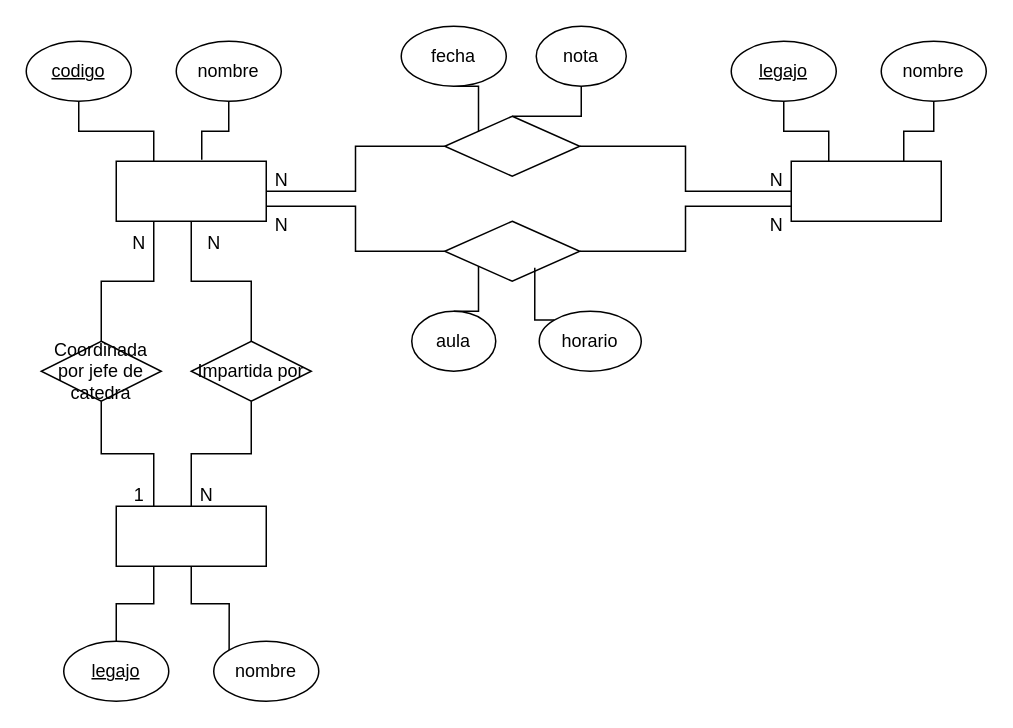
Some shapes in this 1013 by 728 pixel diagram are drawn without their labels. Here are the shapes that lost their labels. From the top down, the centre of each, then its label:
At point (511, 145): "Rendida por".
At point (190, 190): "MATERIA".
At point (865, 190): "ALUMNO".
At point (511, 250): "En curso por".
At point (190, 535): "PROFESOR".
